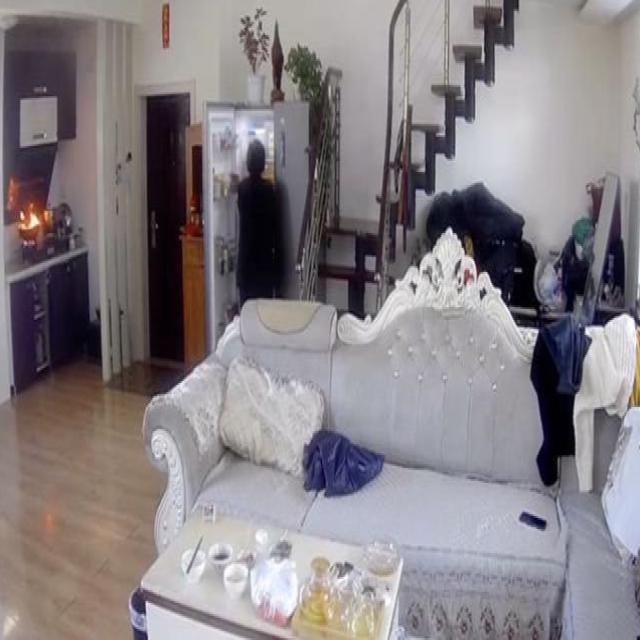smoke: (15, 197, 42, 236)
